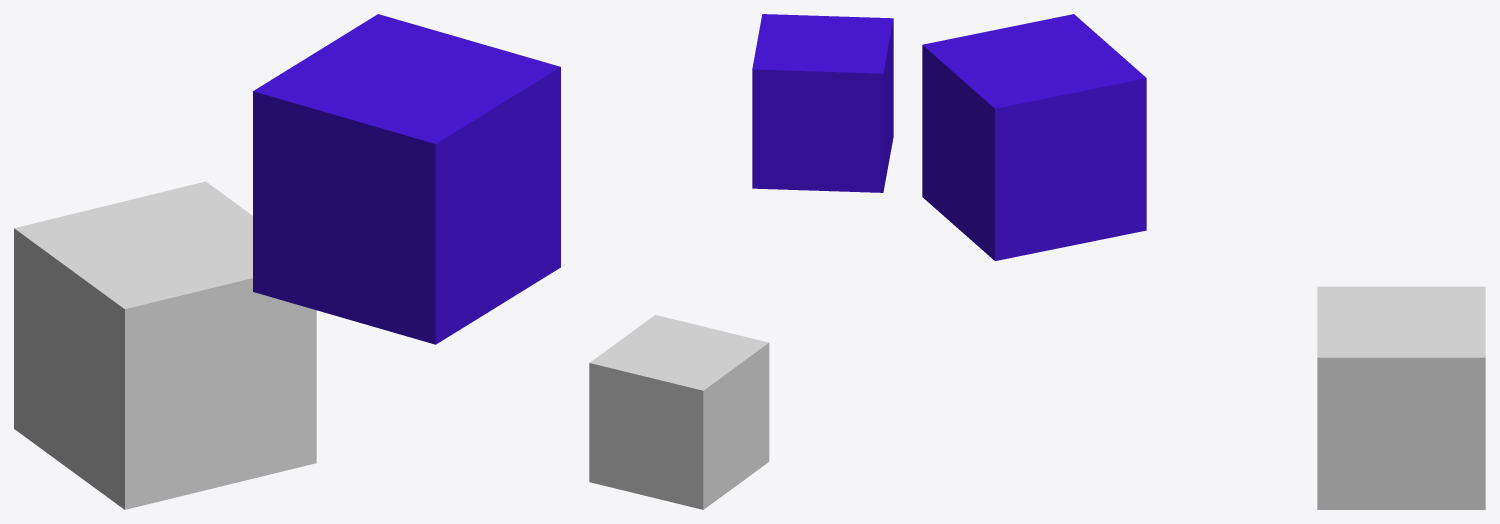
The model's file is cubes.gltf.
3 views of the same model, side by side, from view 1: azimuth 30°, elevation 25°; view 2: azimuth 150°, elevation 25°; view 3: azimuth 270°, elevation 25° (orthographic). The views are drawn at different scales.
Parts seen in each view (by area): view 1: Cube, Cube.001; view 2: Cube.001, Cube; view 3: Cube, Cube.001.
Boxes of the visible parts, left/top/right/bottom form: Cube: left=253, top=14, right=560, bottom=344; Cube.001: left=14, top=181, right=316, bottom=509; Cube.001: left=589, top=315, right=769, bottom=509; Cube: left=752, top=14, right=893, bottom=192; Cube: left=922, top=14, right=1146, bottom=260; Cube.001: left=1317, top=286, right=1485, bottom=509.
Size of the model in its own units: 2.67 by 5.42 by 6.7.
